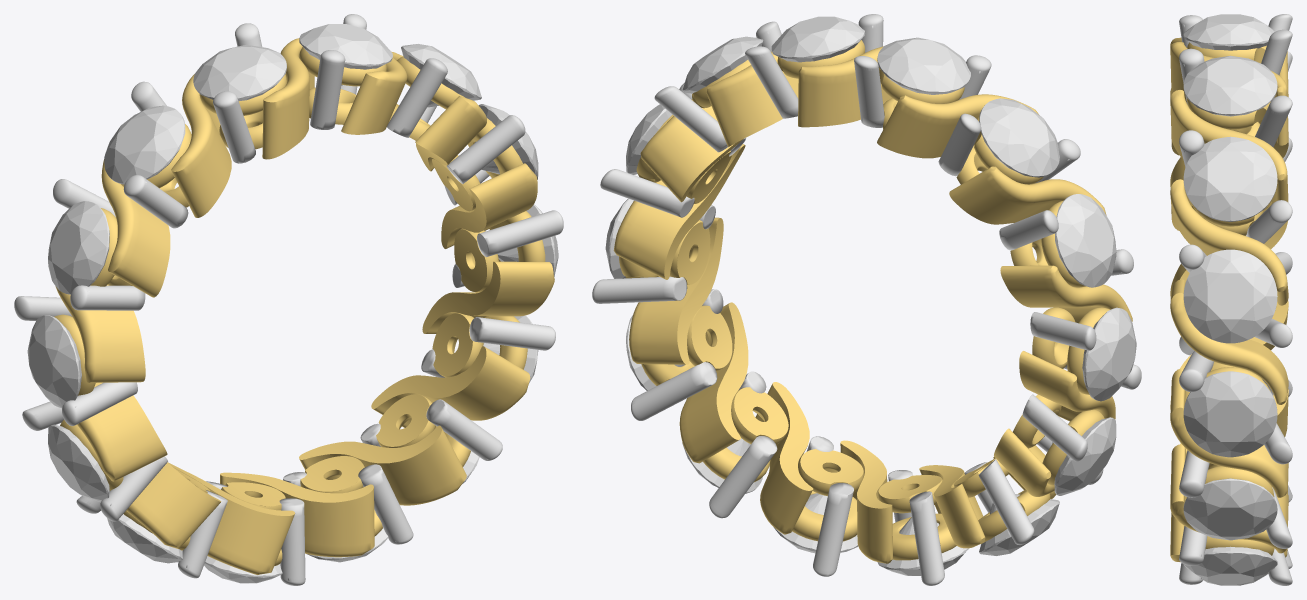
Rendered from Greg614new.glb.
3 renders of one model, left to right at view 1: azimuth 30°, elevation 25°; view 2: azimuth 150°, elevation 25°; view 3: azimuth 270°, elevation 25°, orthographic.
Visible parts, largest first — view 1: YG for 3D, Pt for 3d, Dia for 3D.011, Dia for 3D.010, Dia for 3D.012, Dia for 3D.009, Dia for 3D.013, Dia for 3D.008, Dia for 3D, Dia for 3D.007, Dia for 3D.001, Dia for 3D.006 (+1 smaller); view 2: YG for 3D, Pt for 3d, Dia for 3D.011, Dia for 3D.010, Dia for 3D.012, Dia for 3D.009, Dia for 3D.013, Dia for 3D.008, Dia for 3D, Dia for 3D.007, Dia for 3D.001, Dia for 3D.006 (+3 smaller); view 3: YG for 3D, Pt for 3d, Dia for 3D.001, Dia for 3D.002, Dia for 3D, Dia for 3D.003, Dia for 3D.013, Dia for 3D.012, Dia for 3D.004.
Part boxes in pixels (<box>): YG for 3D: <box>54,38,554,574</box>; Pt for 3d: <box>14,14,563,585</box>; Dia for 3D.011: <box>104,105,185,184</box>; Dia for 3D.010: <box>48,201,109,294</box>; Dia for 3D.012: <box>193,44,286,100</box>; Dia for 3D.009: <box>27,315,81,408</box>; Dia for 3D.013: <box>299,24,392,85</box>; Dia for 3D.008: <box>48,424,109,502</box>; Dia for 3D: <box>401,44,481,107</box>; Dia for 3D.007: <box>107,514,182,563</box>; Dia for 3D.001: <box>475,104,538,179</box>; Dia for 3D.006: <box>204,556,282,583</box>; YG for 3D: <box>613,40,1132,563</box>; Pt for 3d: <box>592,14,1141,585</box>; Dia for 3D.011: <box>979,98,1059,177</box>; Dia for 3D.010: <box>1055,194,1116,287</box>; Dia for 3D.012: <box>877,37,970,94</box>; Dia for 3D.009: <box>1082,307,1136,401</box>; Dia for 3D.013: <box>771,16,865,62</box>; Dia for 3D.008: <box>1052,417,1116,495</box>; Dia for 3D: <box>682,36,763,93</box>; Dia for 3D.007: <box>979,494,1059,555</box>; Dia for 3D.001: <box>626,104,672,174</box>; Dia for 3D.006: <box>877,517,968,575</box>; YG for 3D: <box>1170,37,1288,562</box>; Pt for 3d: <box>1179,14,1292,585</box>; Dia for 3D.001: <box>1183,249,1277,343</box>; Dia for 3D.002: <box>1183,371,1277,457</box>; Dia for 3D: <box>1183,136,1277,221</box>; Dia for 3D.003: <box>1183,478,1277,540</box>; Dia for 3D.013: <box>1183,55,1277,116</box>; Dia for 3D.012: <box>1183,14,1275,50</box>; Dia for 3D.004: <box>1183,546,1277,584</box>.
Bounding box in the file's own units: 21.42 × 21.35 × 4.56.
